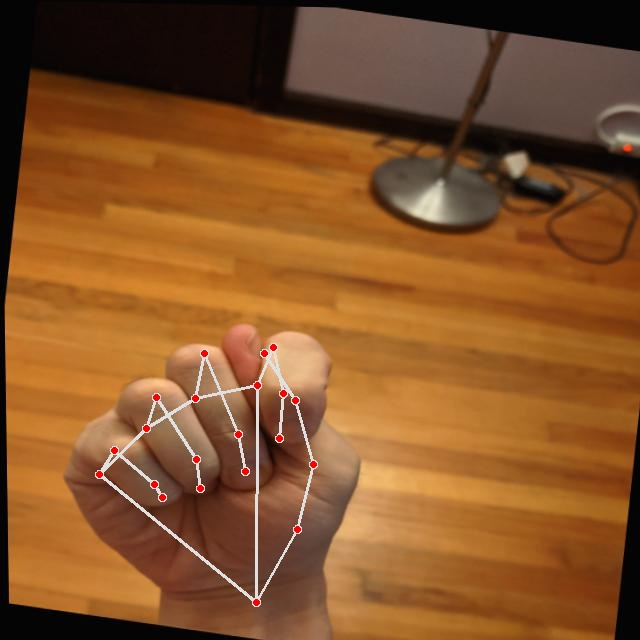T: (34, 288, 388, 628)
